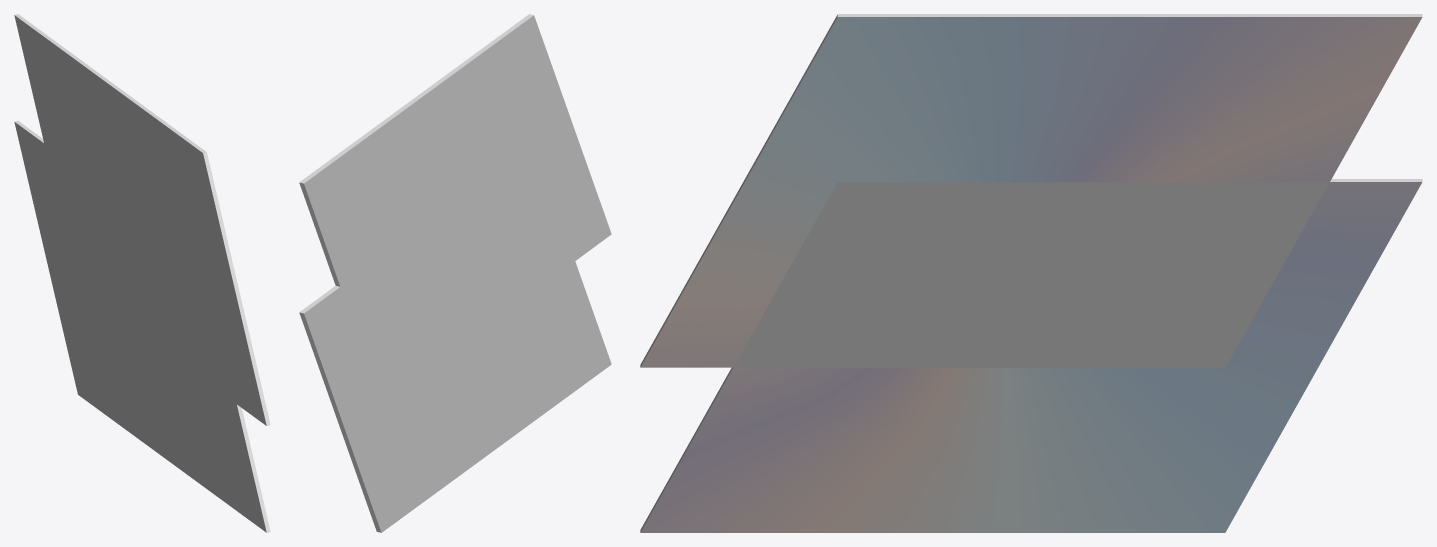
File: Iris2.glb
3 renders of one model, left to right at view 1: azimuth 30°, elevation 25°; view 2: azimuth 150°, elevation 25°; view 3: azimuth 270°, elevation 25°, orthographic. The views are drawn at different scales.
Parts seen in each view (by area): view 1: Frame; view 2: Frame; view 3: Out, In, Frame.
Part boxes in pixels (bbox=[...]): Frame: bbox=[14, 14, 270, 532]; Frame: bbox=[299, 14, 611, 532]; Out: bbox=[640, 17, 1422, 532]; In: bbox=[733, 182, 1329, 367]; Frame: bbox=[640, 14, 1422, 532].
Bounding box in the file's own units: 0.0459 × 3.64 × 5.
3 materials, 1 textured.
